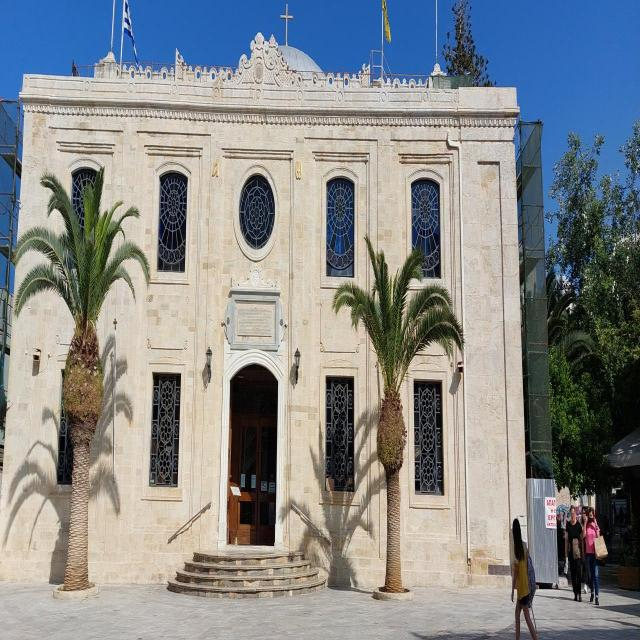Agios Titos: (13, 74, 533, 590)
